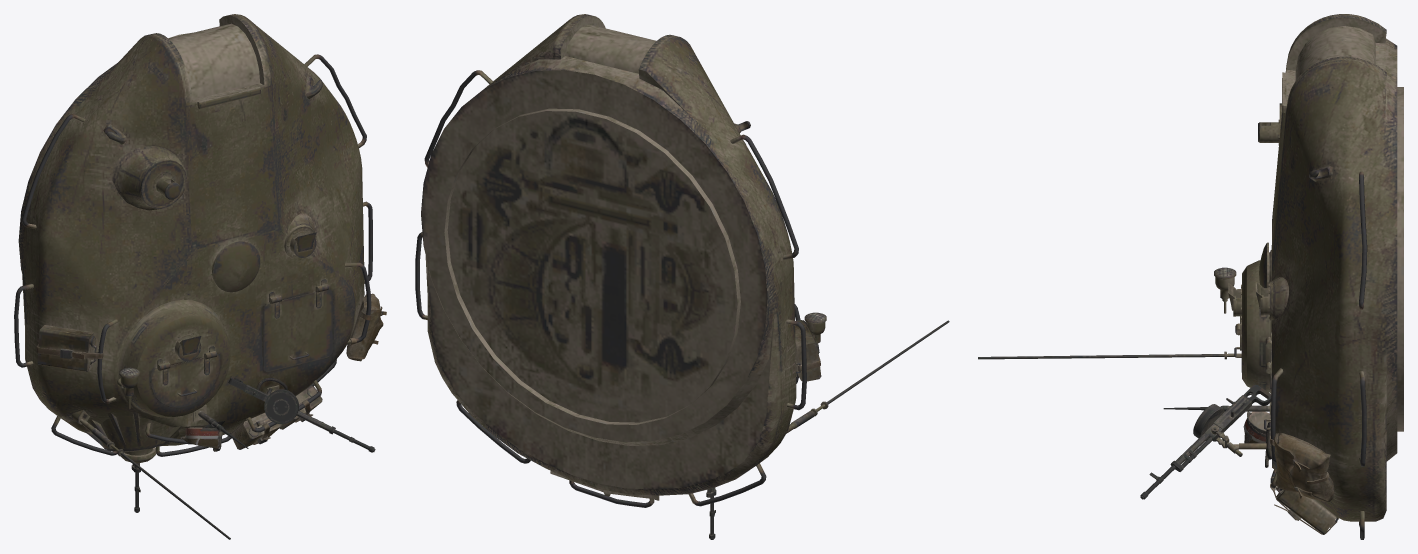
Rendered from Turret_02.glb.
The picture shows the model from 3 angles, left to right: view 1: azimuth 30°, elevation 25°; view 2: azimuth 150°, elevation 25°; view 3: azimuth 270°, elevation 25°; orthographic projection. The views are drawn at different scales.
Parts seen in each view (by area): view 1: set_0_group_0; view 2: set_0_group_0; view 3: set_0_group_0.
Boxes of the visible parts, bbox=[...] form: set_0_group_0: bbox=[14, 14, 386, 539]; set_0_group_0: bbox=[415, 14, 949, 539]; set_0_group_0: bbox=[978, 14, 1403, 539].
Bounding box in the file's own units: 2.77 × 3.39 × 2.57.
Materials: 1 (1 with a texture image).
